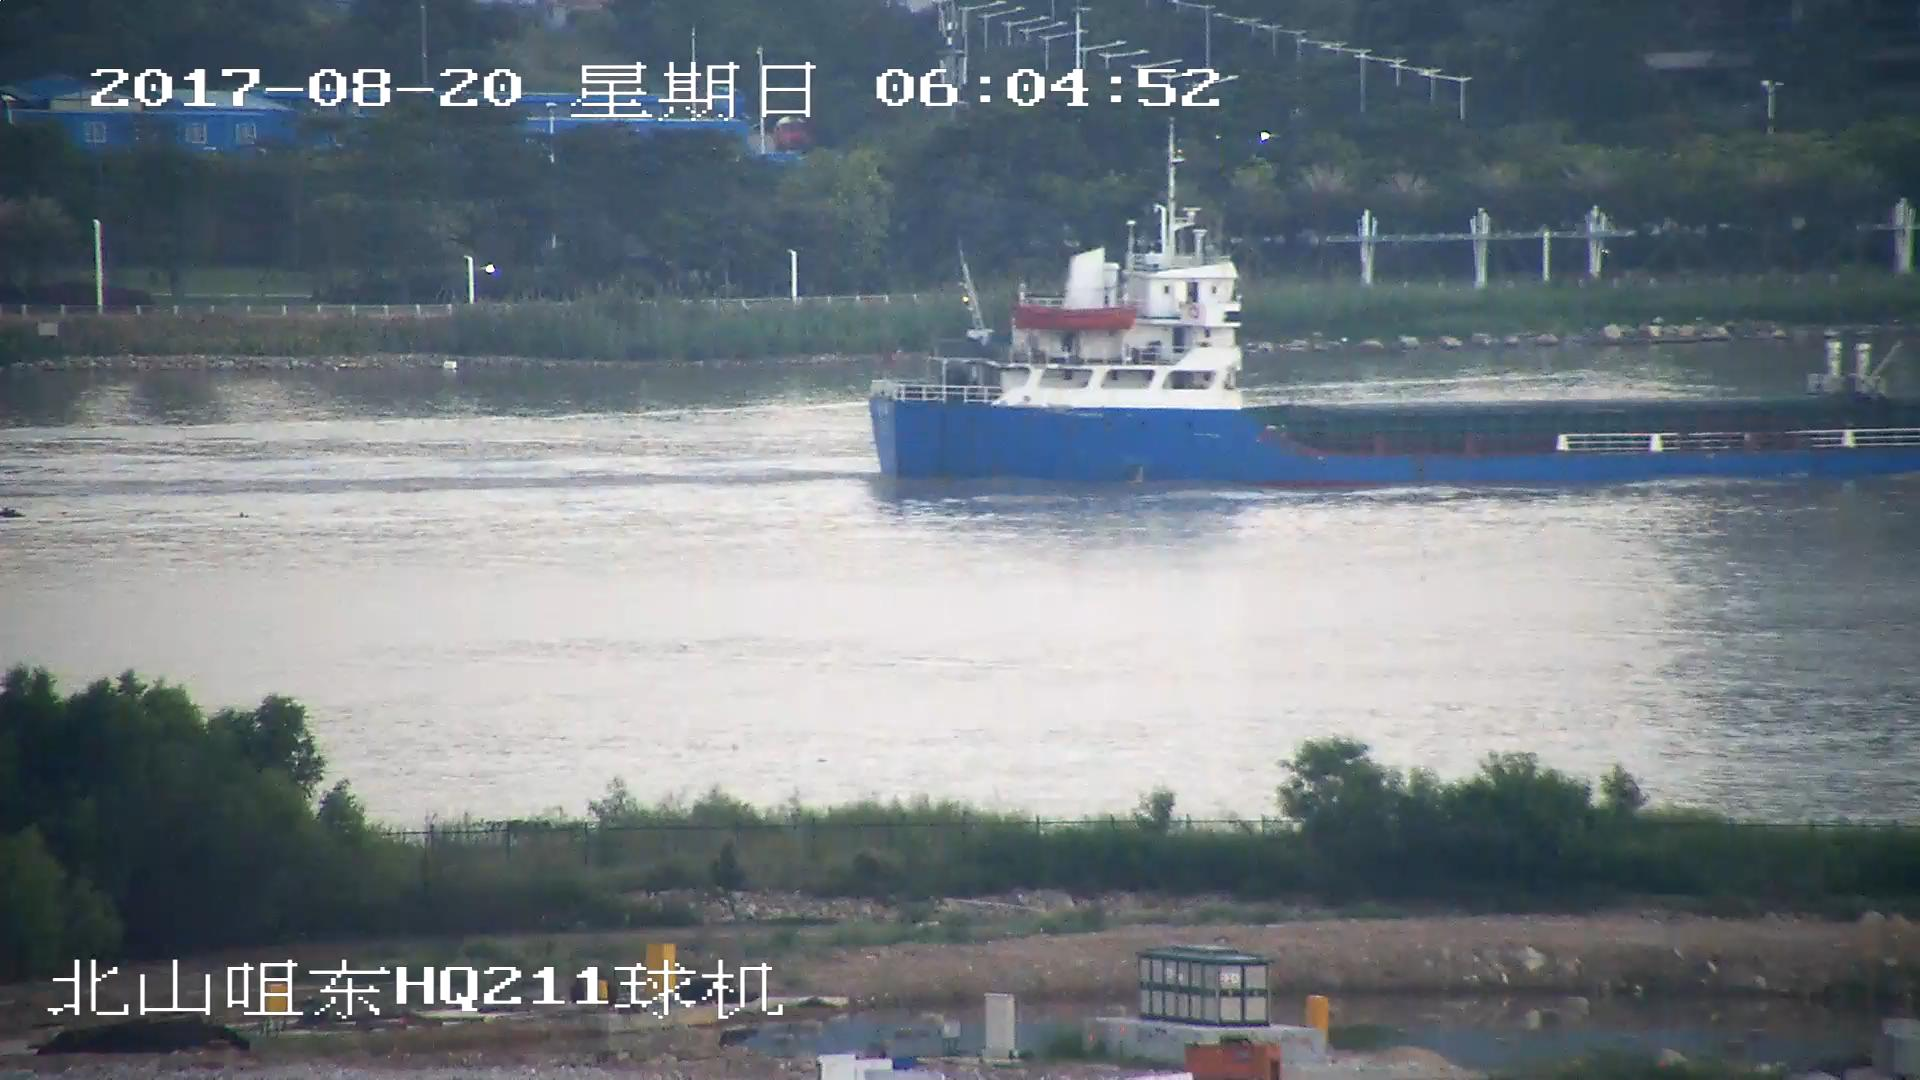general cargo ship: (857, 206, 1920, 481)
